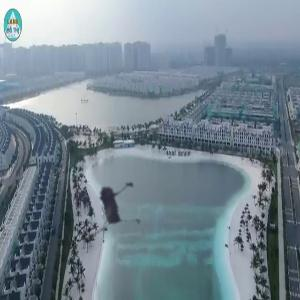drone: (50, 155, 153, 258)
